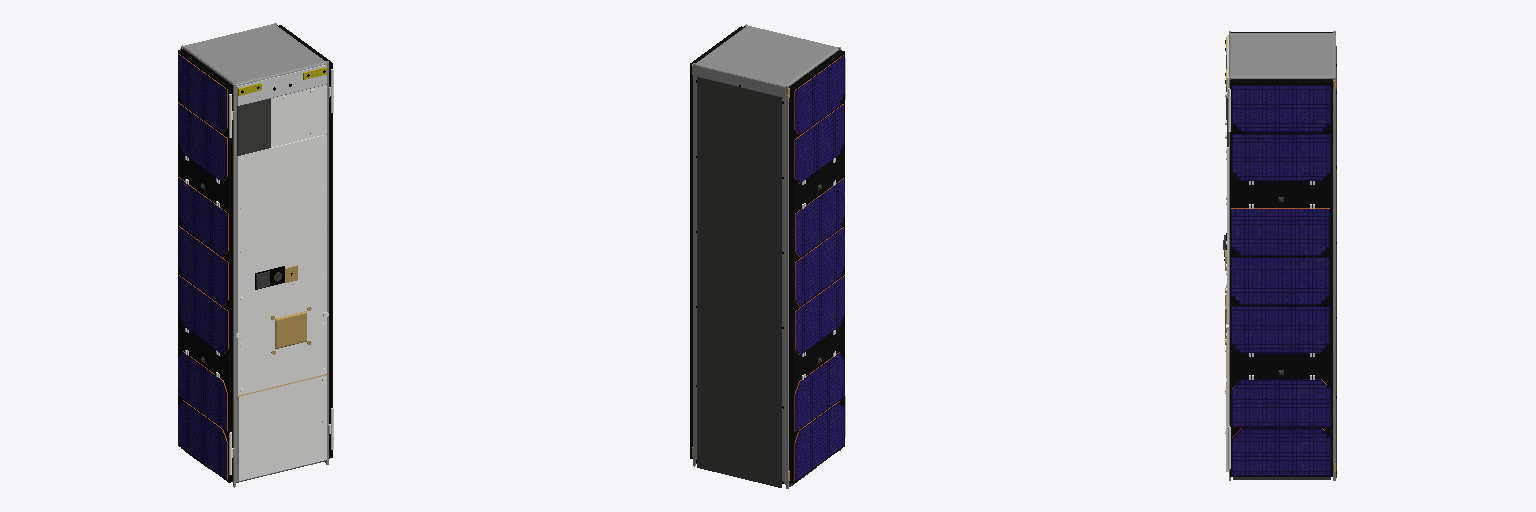
File: ICECube.obj
3 renders of one model, left to right at view 1: azimuth 30°, elevation 25°; view 2: azimuth 150°, elevation 25°; view 3: azimuth 270°, elevation 25°, orthographic.
Bounding box in the file's own units: 0.4955 × 1.76 × 0.4489.